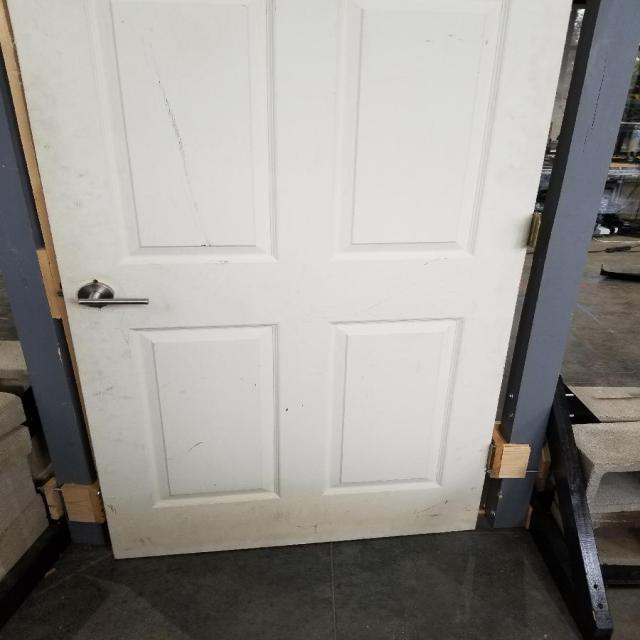door: (74, 276, 152, 312)
